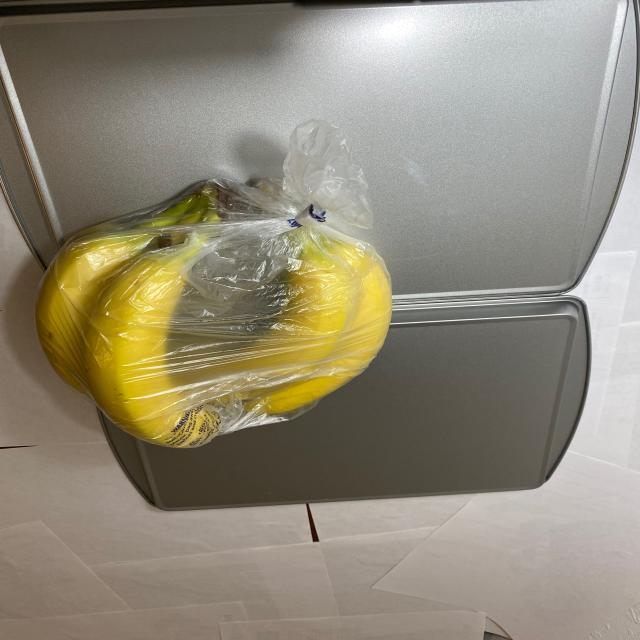banana: (33, 168, 395, 452)
